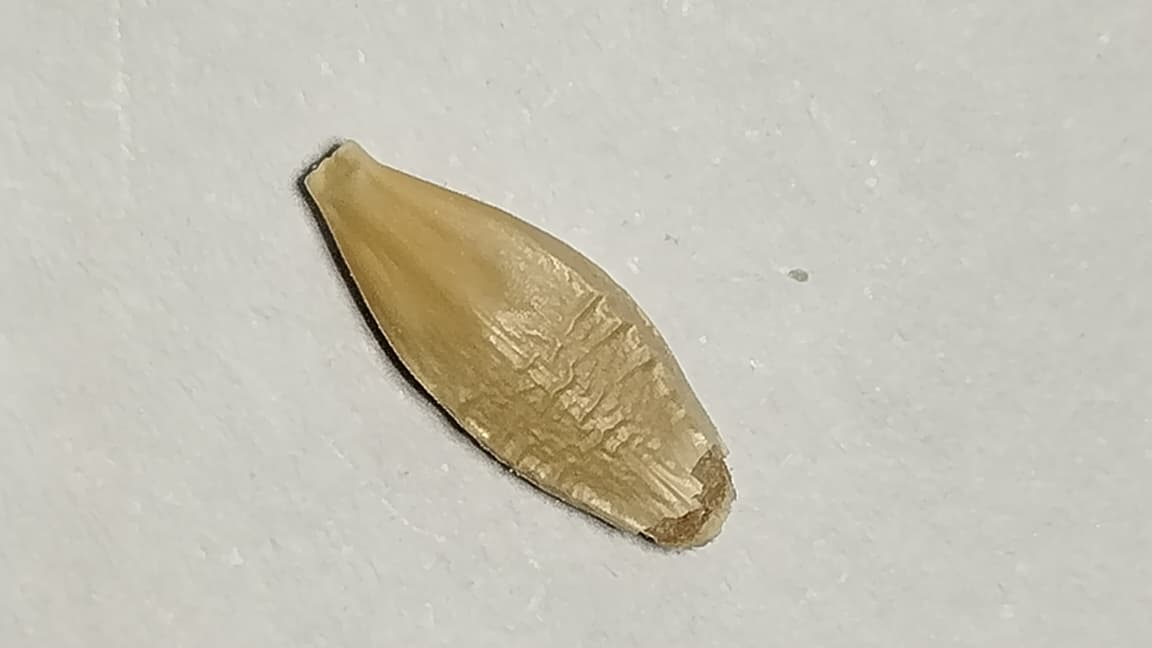healthy-70-60: (306, 142, 733, 545)
